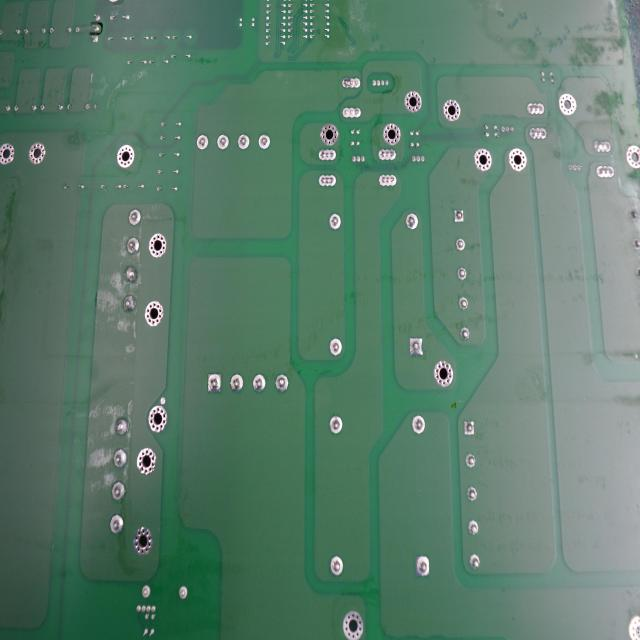slug: (121, 264, 141, 284), (112, 414, 128, 438)
